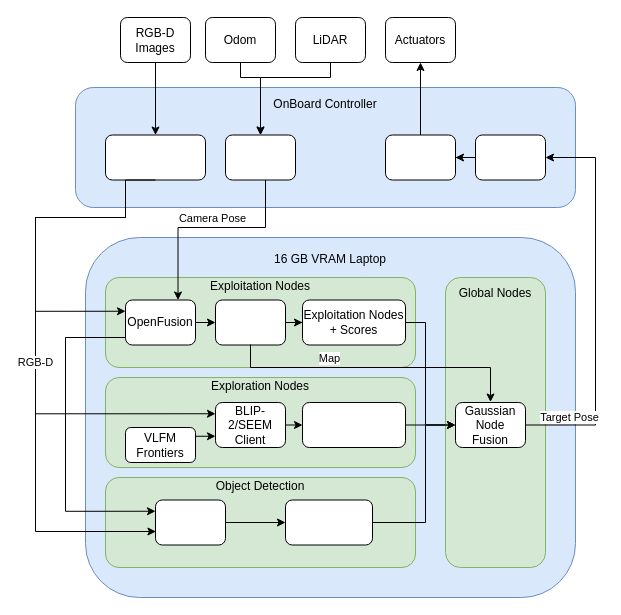
This 621x615 diagram has some shape labels left out. Each missing label, with the box of its shape:
Camera Pre-Processing: (104, 134, 206, 180)
Exploration Nodes + Score: (302, 402, 406, 448)
Global Planner: (474, 134, 546, 180)
Local Planner: (384, 134, 456, 180)
Object Detection Node + Score: (284, 499, 372, 545)
SEEM Client: (154, 499, 226, 545)
SLAM: (224, 134, 296, 180)
TSDF Map: (214, 299, 286, 345)
